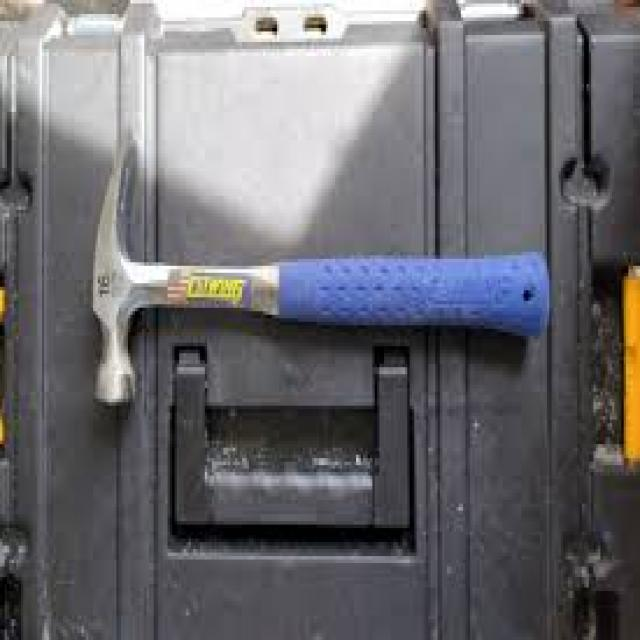hammer: (80, 122, 564, 424)
